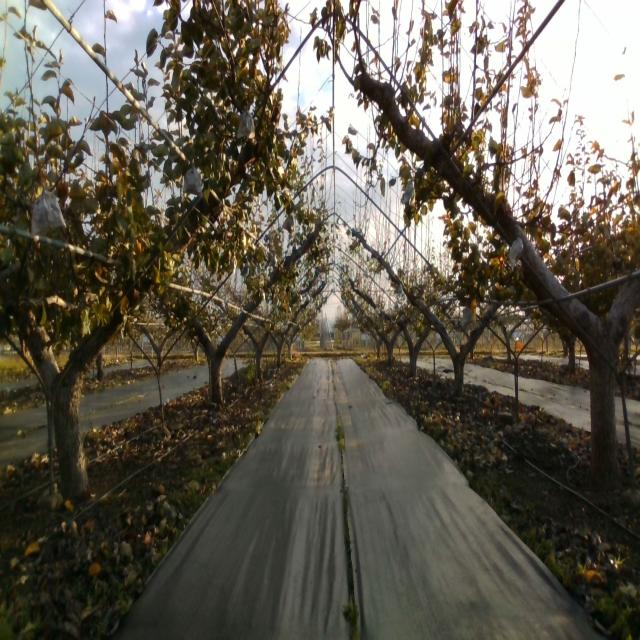pearbags: (30, 181, 67, 239), (182, 162, 202, 198), (237, 108, 256, 140), (508, 238, 524, 273), (403, 178, 416, 213), (461, 304, 475, 332), (282, 214, 296, 236)
